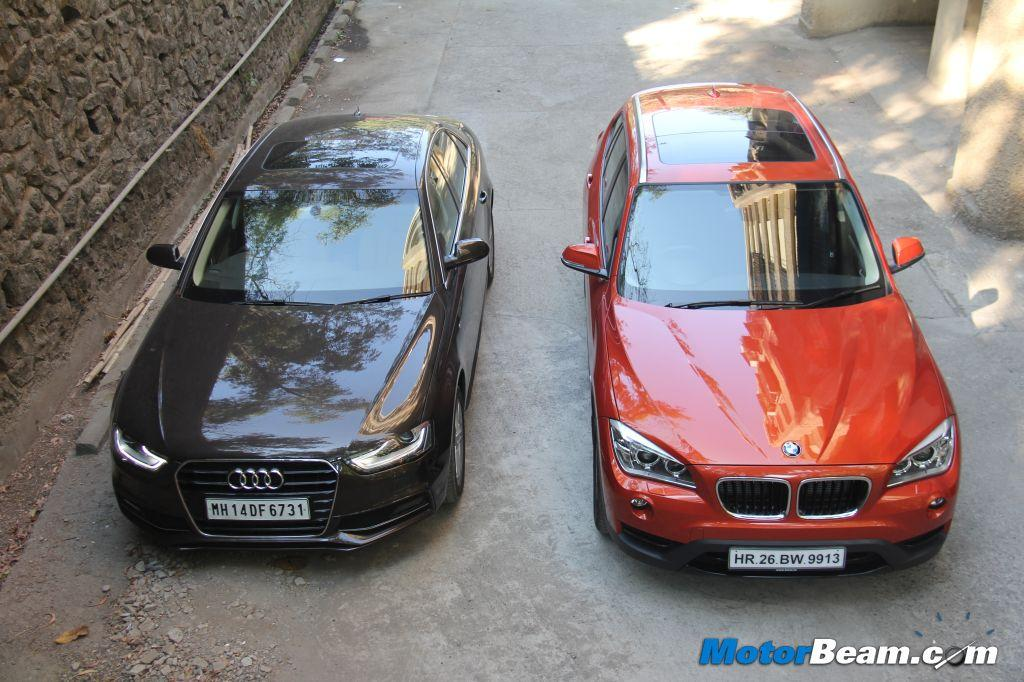car: (553, 68, 983, 614), (61, 68, 511, 586)
